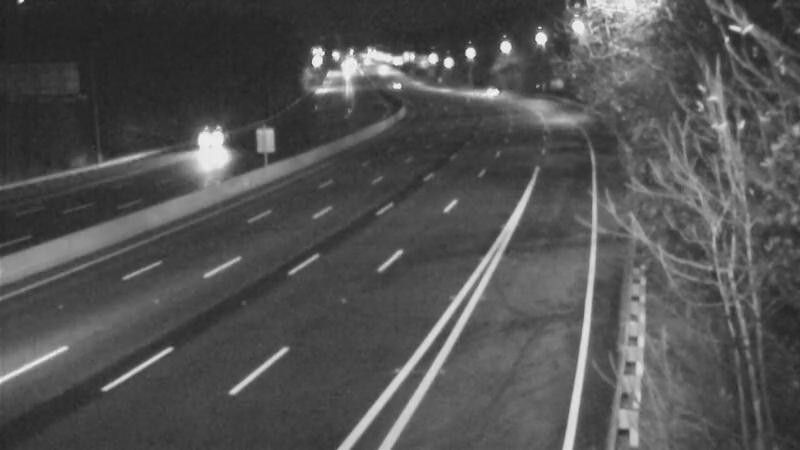vehicle: (368, 57, 418, 107), (467, 68, 517, 118), (180, 124, 230, 174)
